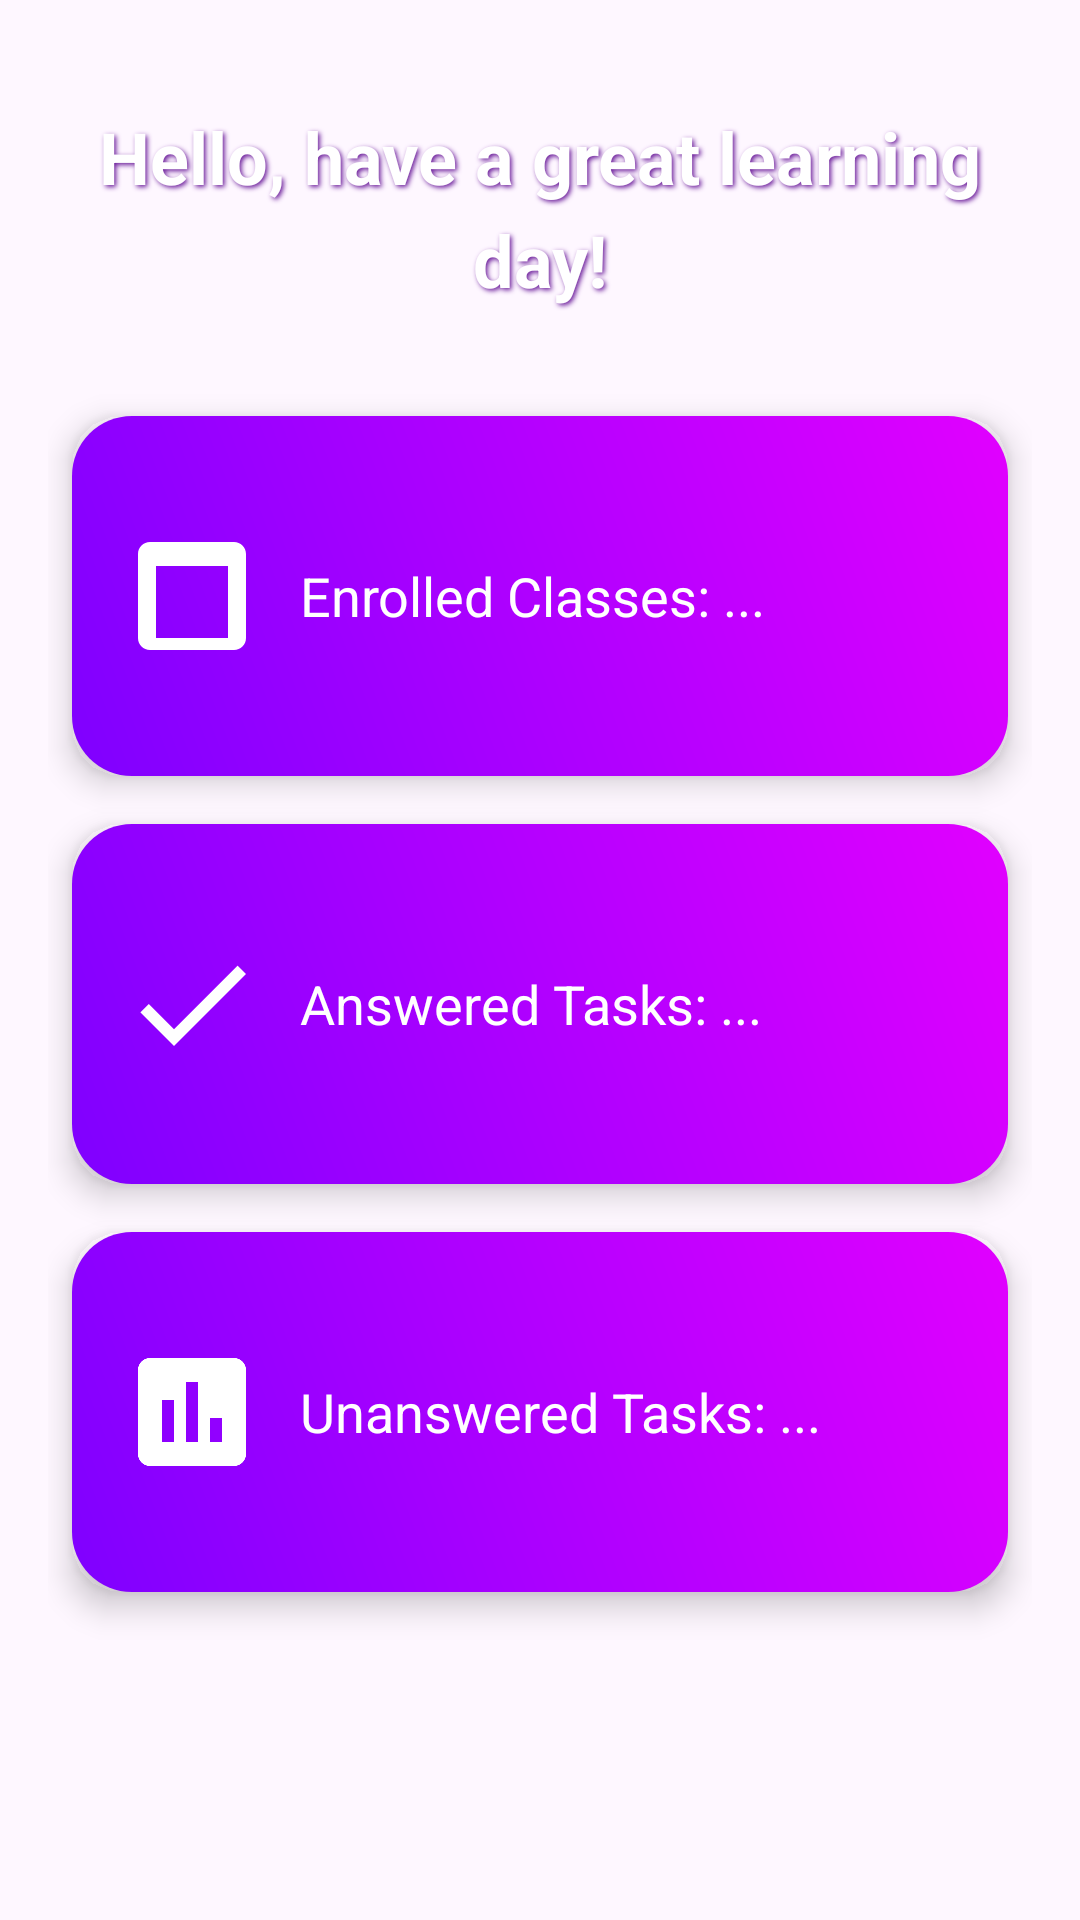

Icons on this 1080x1920 Android screen, each with the point to tap as point (x, y):
Progress icon: point (192, 1412)
